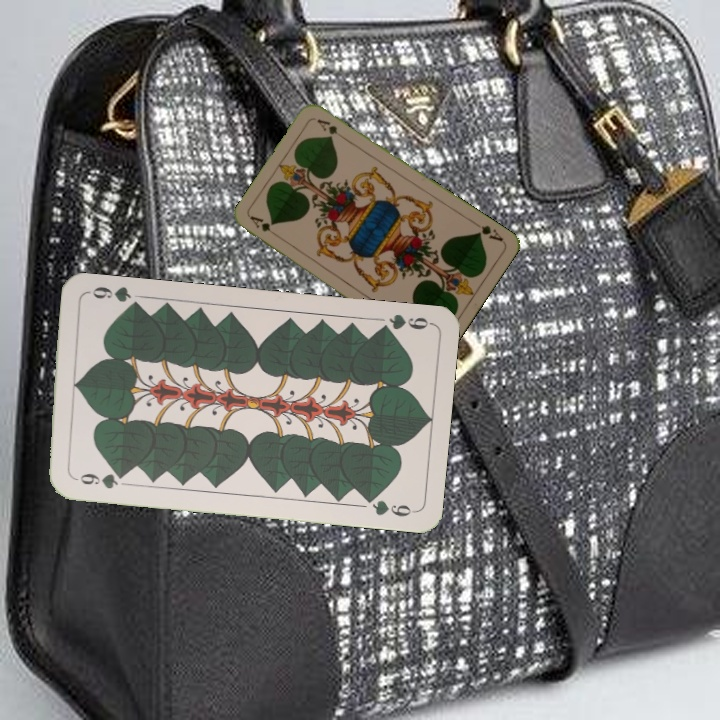G9: (374, 310, 434, 335), (69, 469, 128, 492)
GA: (246, 212, 281, 241), (469, 218, 506, 244)
